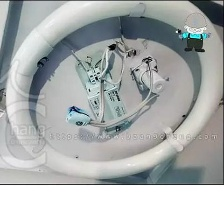light_bulb: (1, 0, 223, 182)
